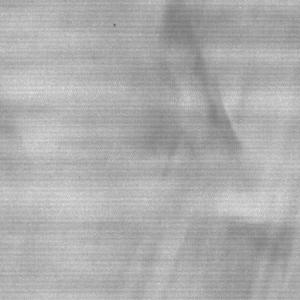Wrinkle: (8, 199, 300, 300), (123, 1, 261, 184)
